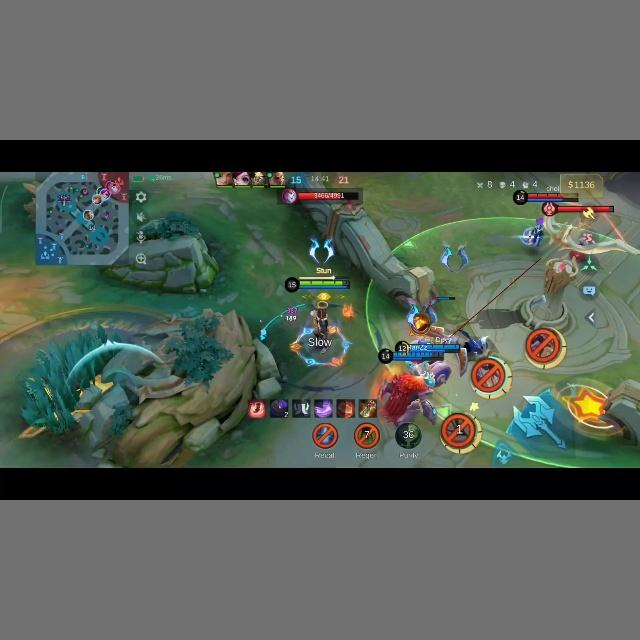hp_enemy: (512, 188, 582, 204), (297, 189, 358, 199), (554, 204, 613, 214)
hp_self: (376, 347, 452, 363), (280, 276, 347, 291)
minion_enemy: (380, 366, 440, 399)
